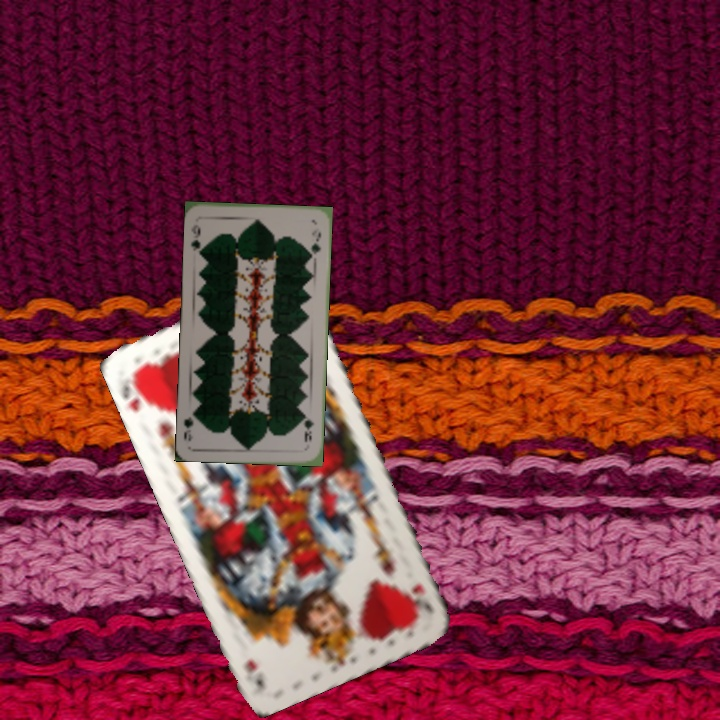G9: (187, 221, 206, 257), (300, 410, 316, 445)
HK: (118, 366, 153, 415), (407, 579, 438, 611)
